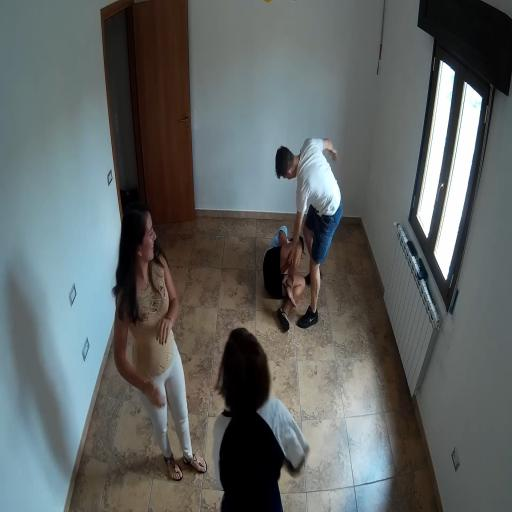violencia: (250, 115, 343, 349)
